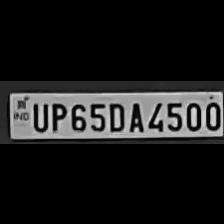0: (204, 98, 222, 130), (184, 99, 202, 129)
4: (145, 97, 163, 131)
5: (164, 98, 182, 130), (88, 99, 106, 130)
6: (68, 99, 86, 131)
A: (126, 98, 144, 132)
D: (105, 99, 124, 131)
P: (48, 99, 66, 131)
U: (29, 99, 47, 130)
